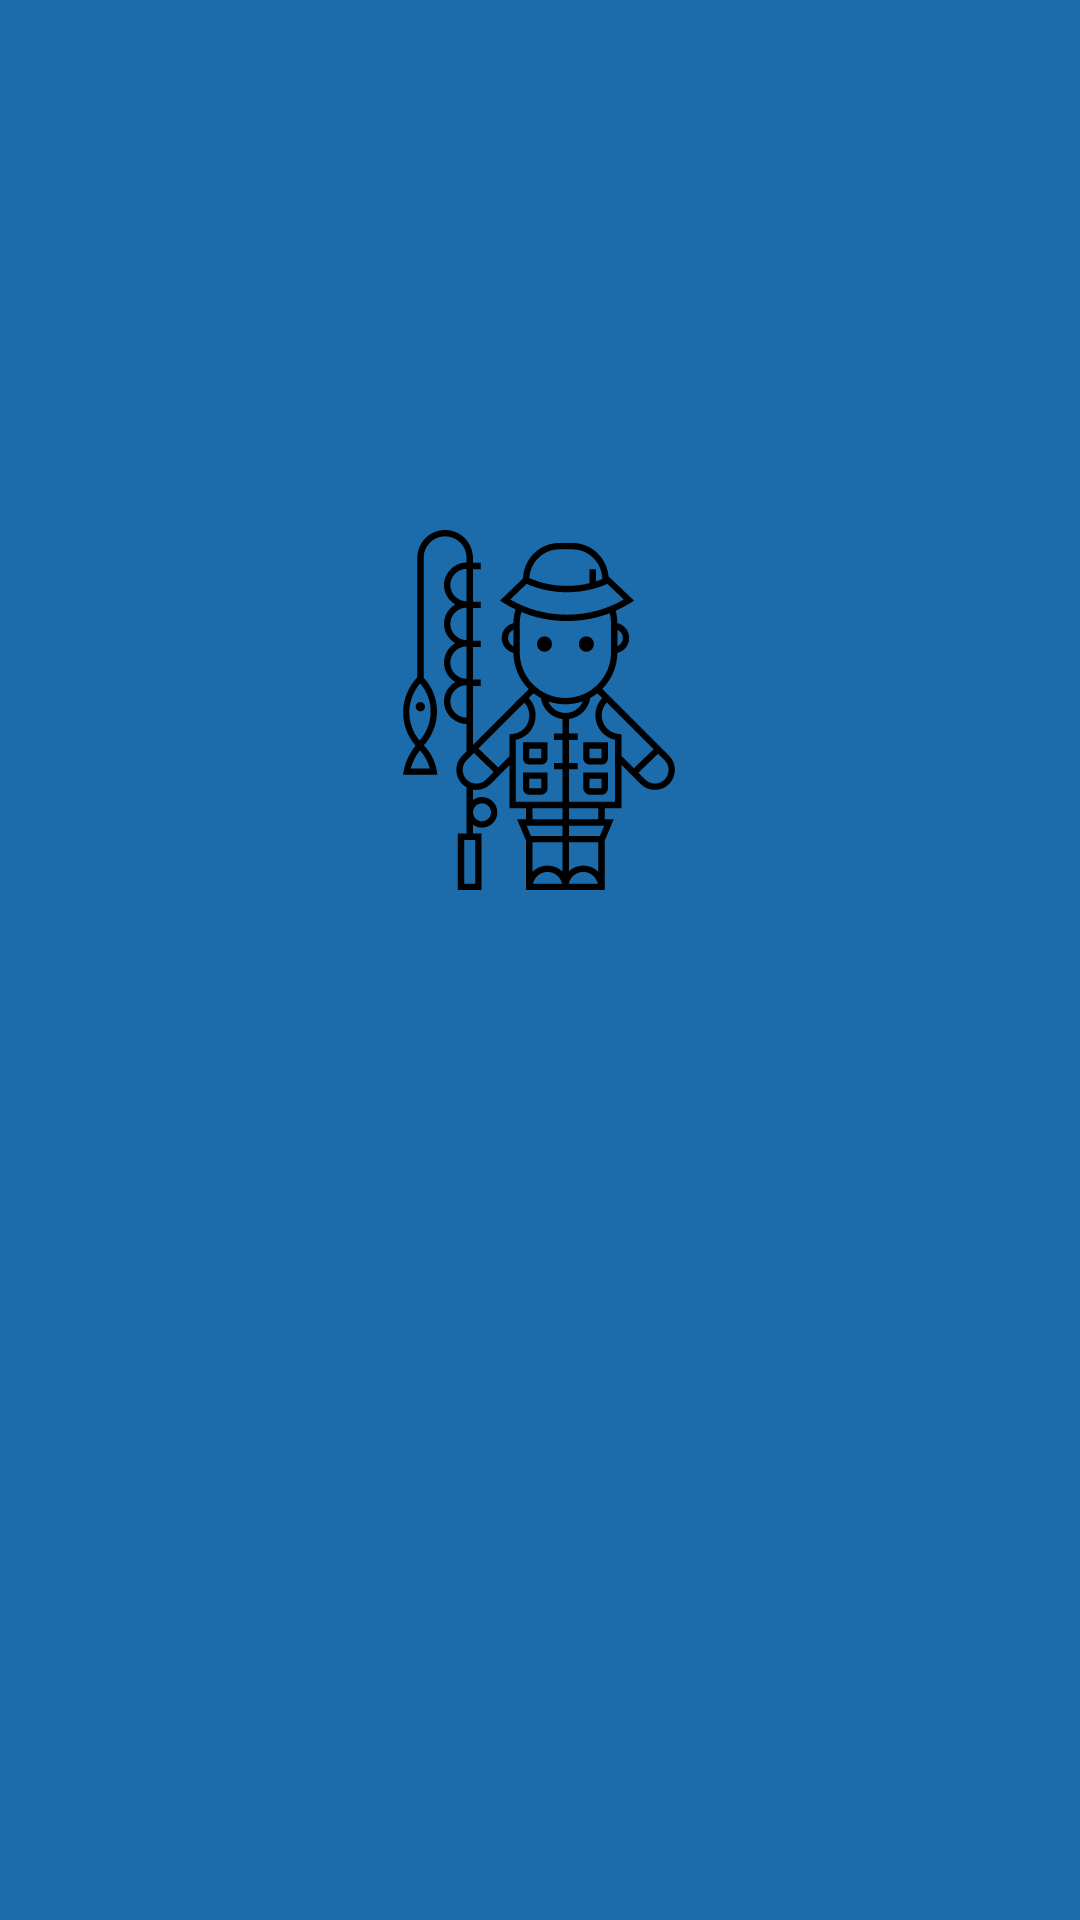

Where icons sit on this 1080*1920 app screen, as box(x1, y1, x2, y2):
fishermen: box(403, 530, 675, 890)
